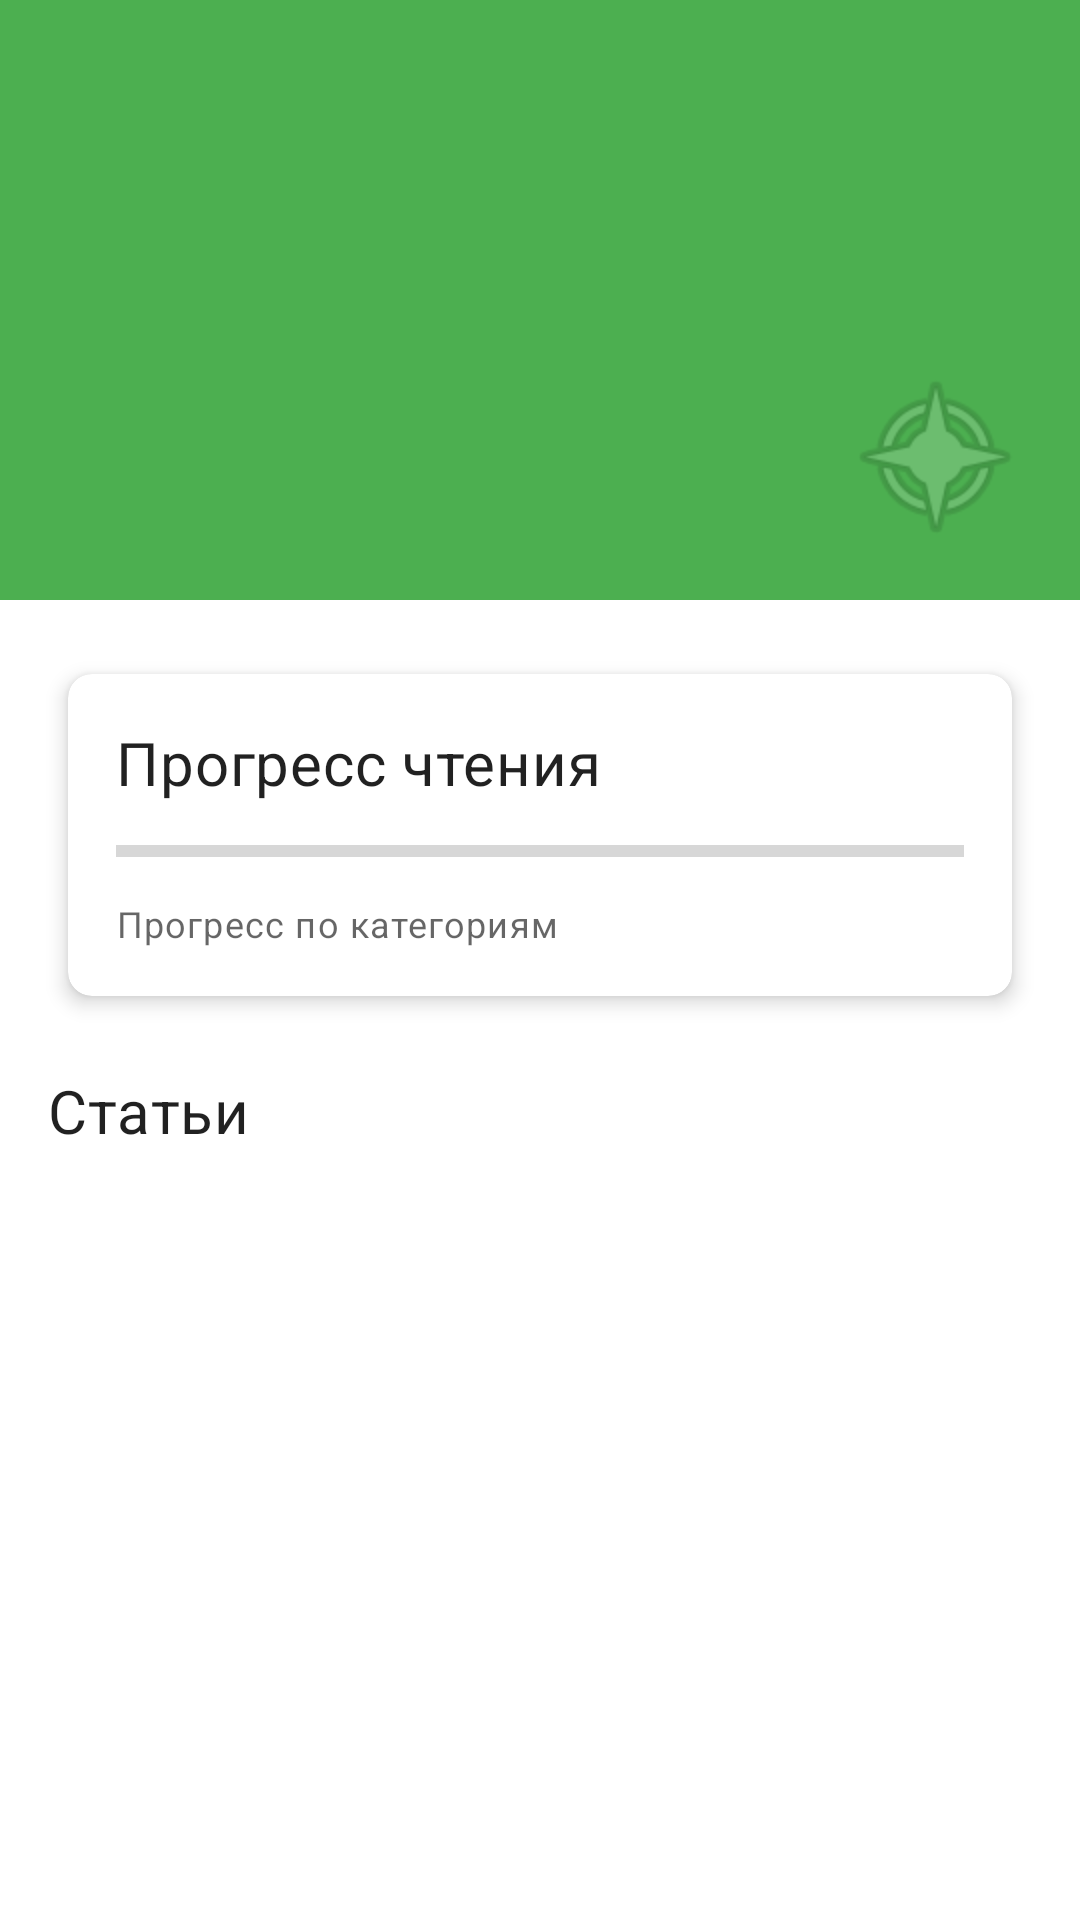

Icon bounding boxes for this 1080px×1920px phone screenshot, format (x1, y1, x2, y2):
Иконка категории: (864, 386, 1004, 528)
